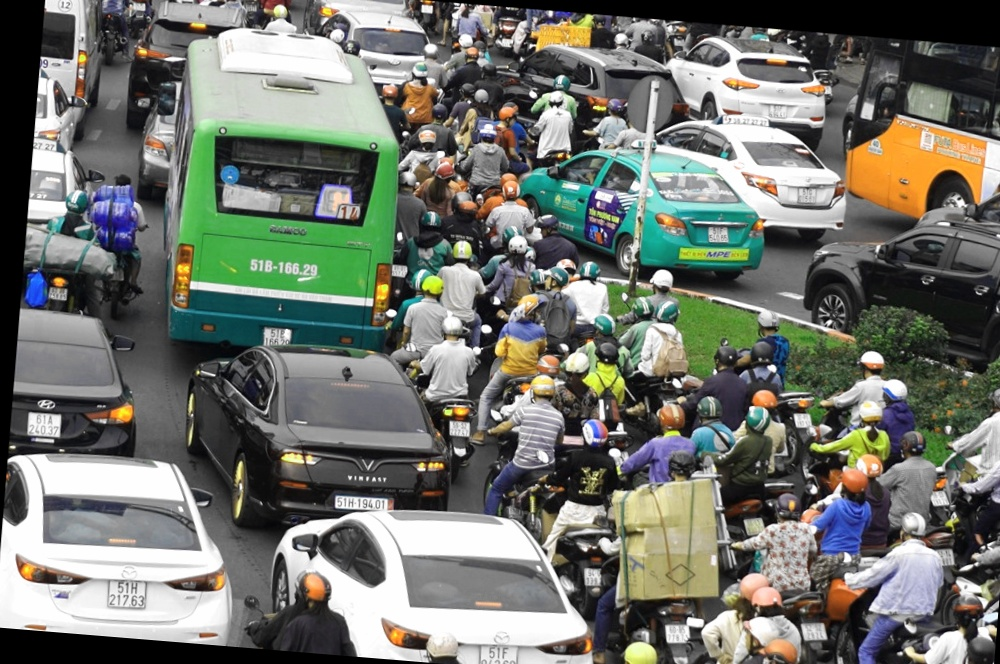Bien-so: (108, 579, 149, 614), (333, 493, 394, 515), (28, 407, 64, 439), (481, 645, 521, 664), (663, 623, 693, 648), (801, 623, 833, 645), (263, 324, 292, 348), (707, 222, 732, 244), (448, 416, 474, 437), (582, 565, 604, 587), (797, 186, 818, 208), (766, 102, 790, 121), (931, 489, 953, 506), (794, 412, 816, 429), (936, 548, 956, 566), (49, 285, 66, 302)
